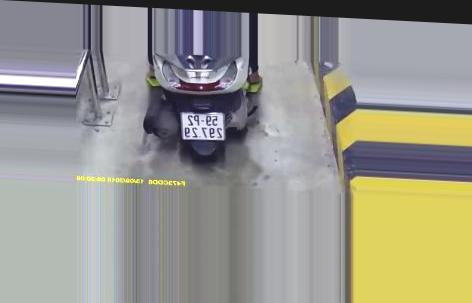License_Plate: (180, 105, 228, 148)
